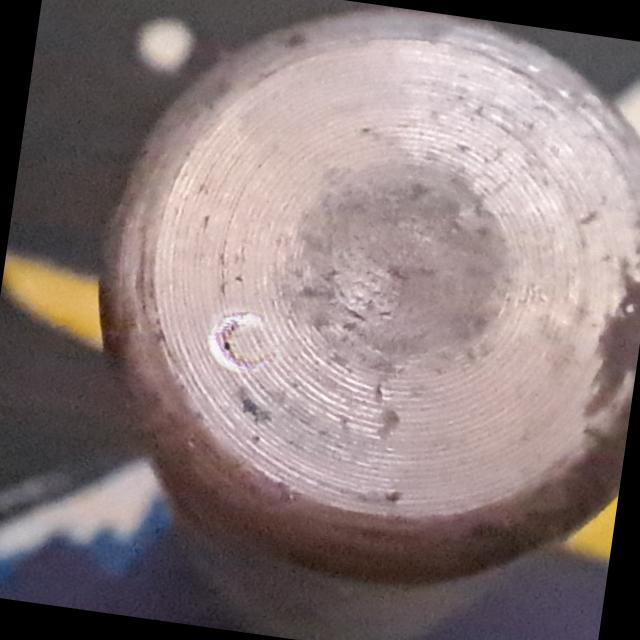defect: (205, 305, 281, 380)
planson: (99, 9, 640, 640)
